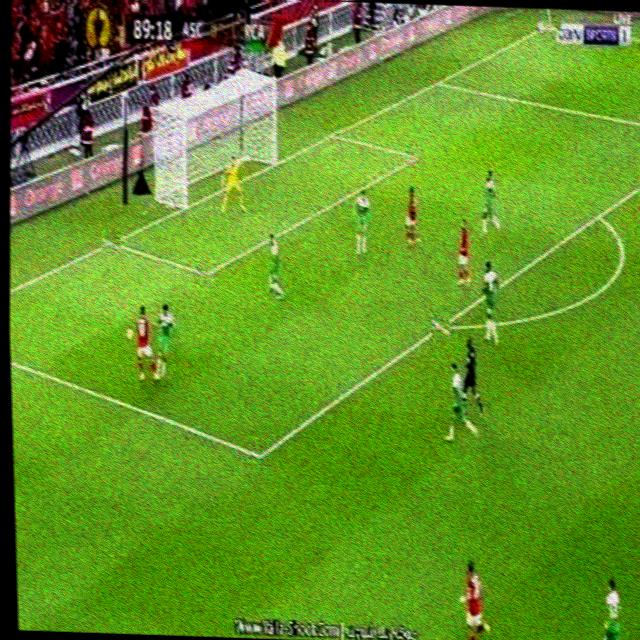bigarea_bottom_inner: (245, 436, 272, 470)
bigarea_top_outter: (426, 70, 446, 90)
bottom_arc_area_intersection: (431, 312, 451, 338)
corner: (536, 14, 561, 33)
smallarea_bottom_inner: (193, 255, 215, 287)
smallarea_bottom_outter: (101, 227, 121, 253)
smallarea_top_inner: (405, 144, 425, 168)
smallarea_top_outter: (323, 122, 343, 144)
top_arc_area_intersection: (588, 203, 607, 224)
